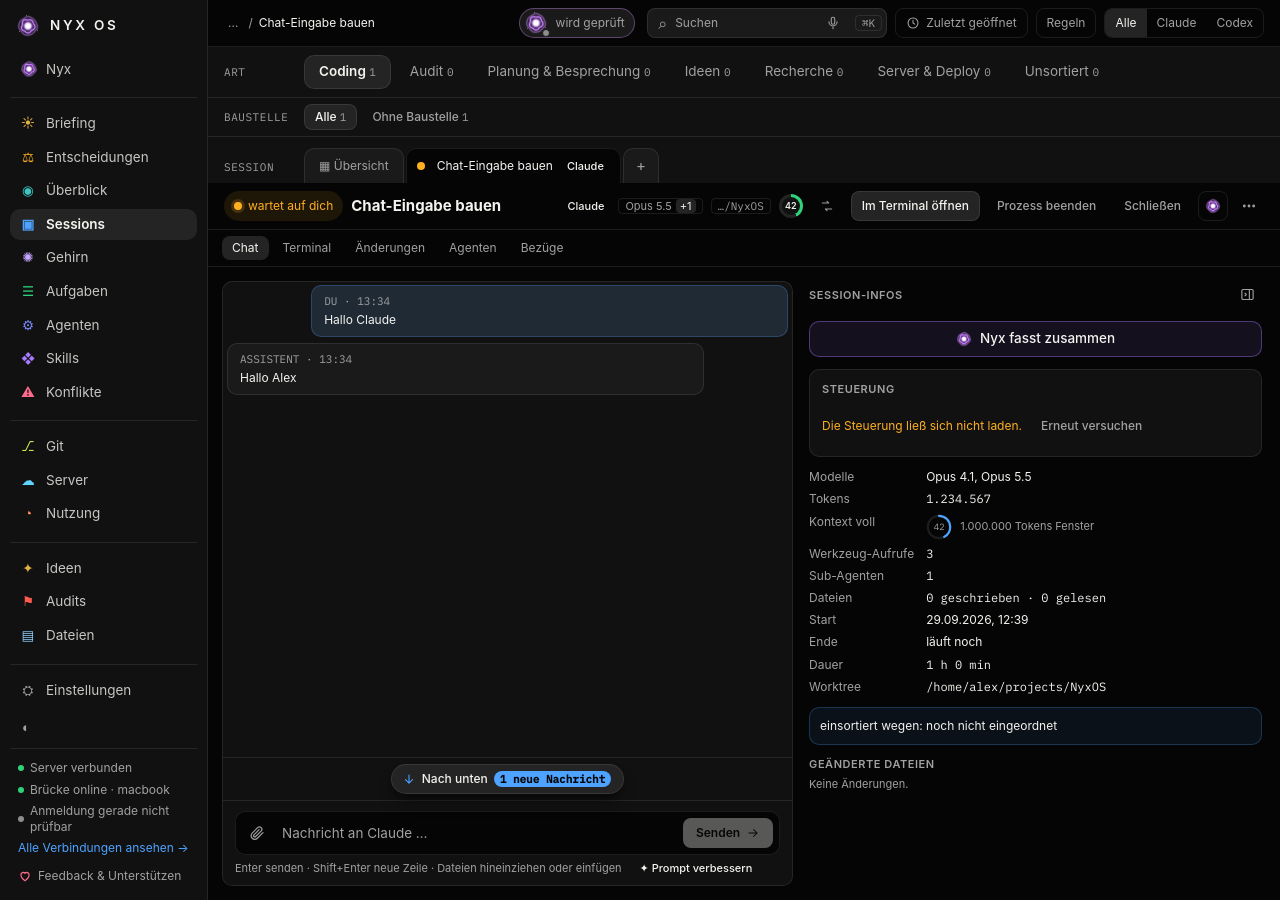
Test: Prompt verbessern › Fehler von Sonnet wird ehrlich angezeigt
The image size is (1280, 900).
Click the button "✦ Prompt verbessern": point(696, 868) [634,859,758,877]
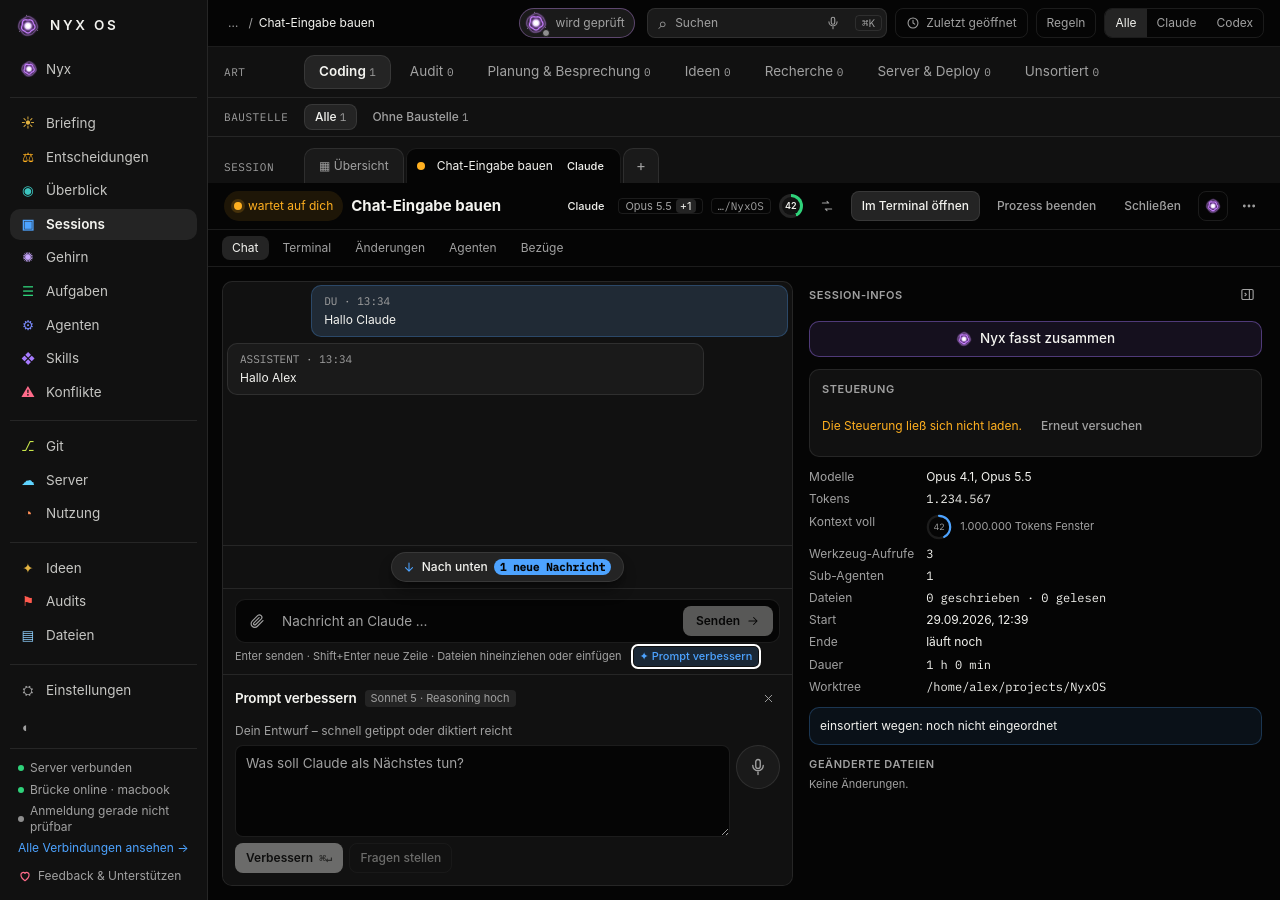
In the text box labelled "Dein Entwurf – schnell getippt oder diktiert reicht": point(483, 791) [235,745,730,837], type "x"
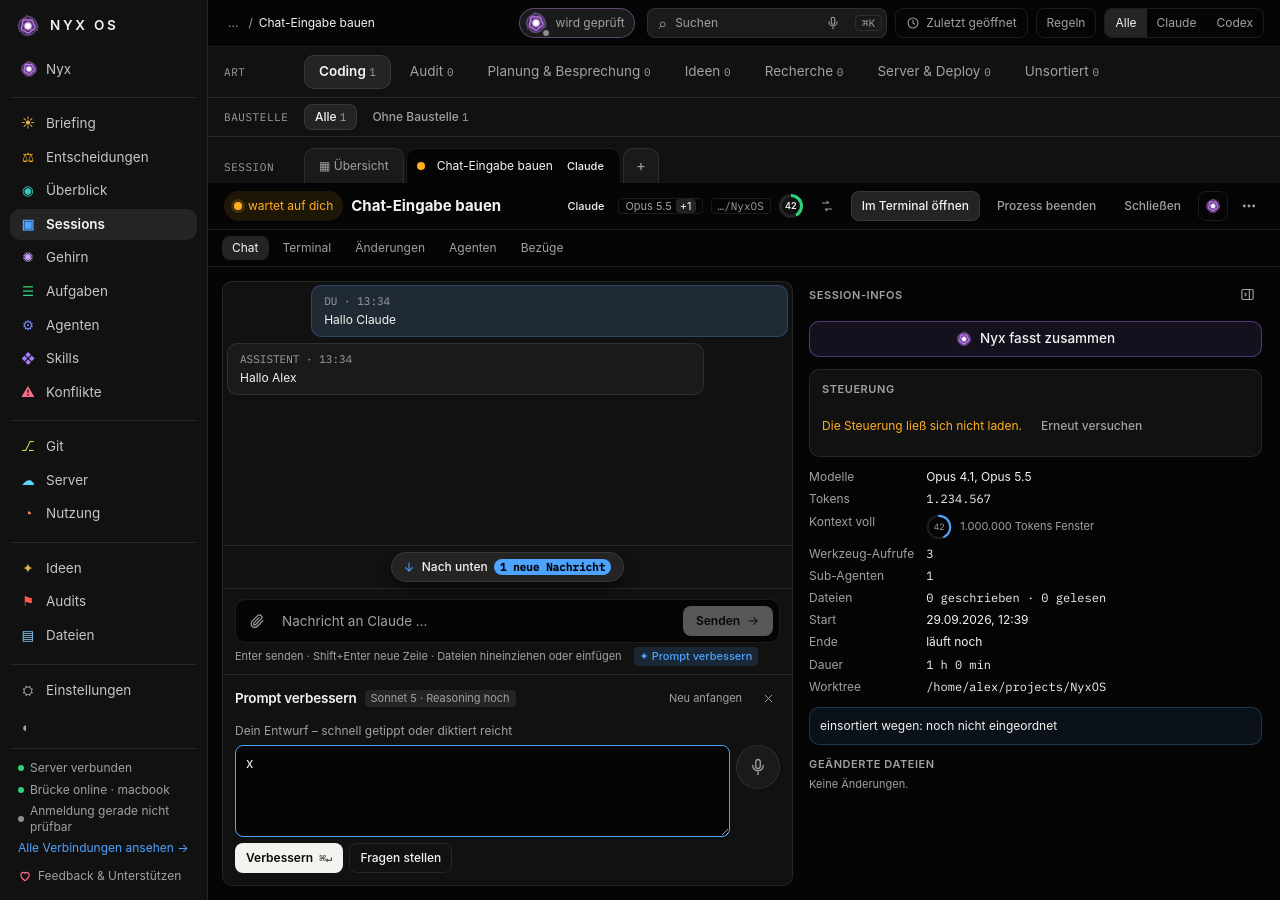
Click the button "Verbessern ⌘↵": point(289, 858) [235,843,343,873]
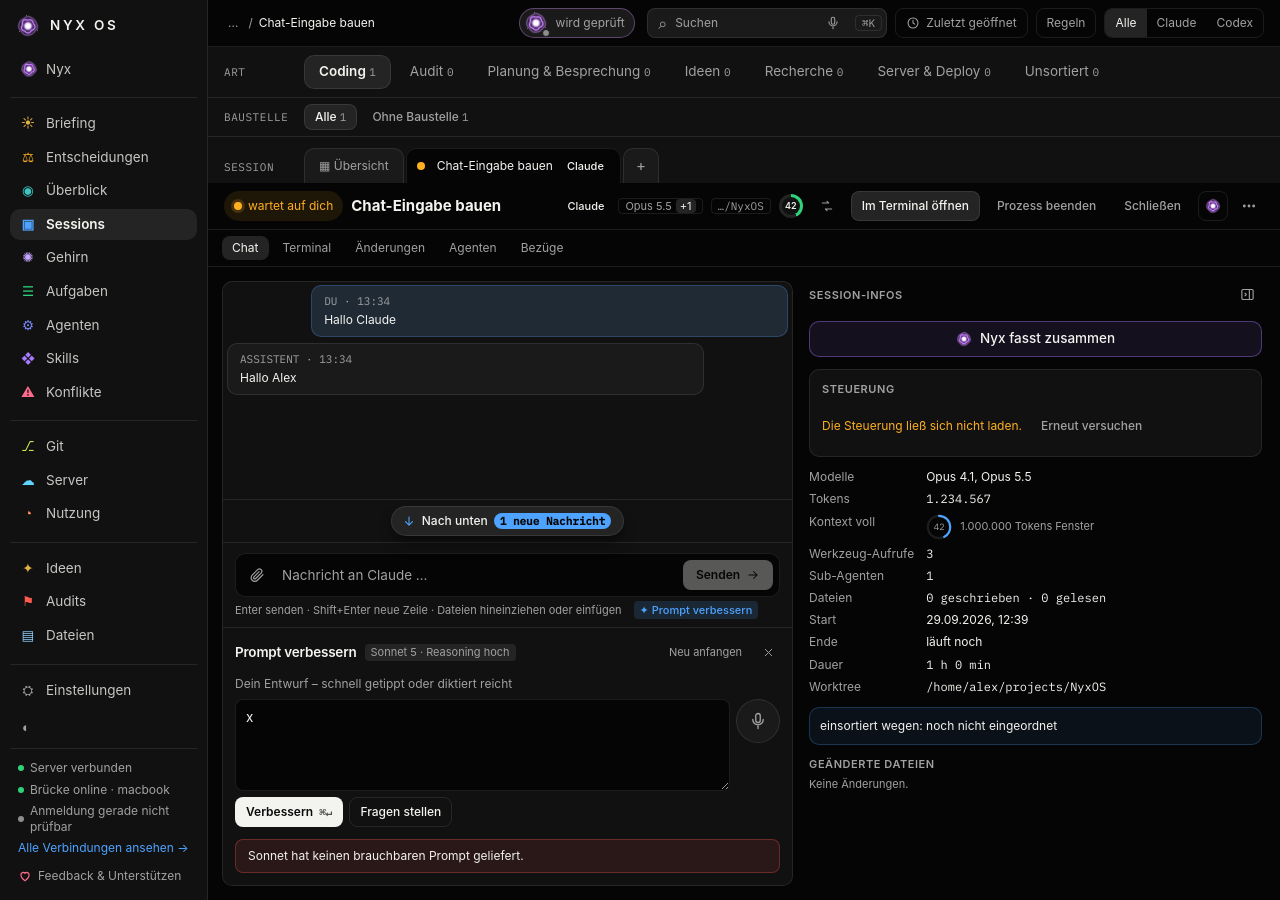
Expected: the message reads "Sonnet hat keinen brauchbaren Prompt geliefert.", [248,848,524,863]
